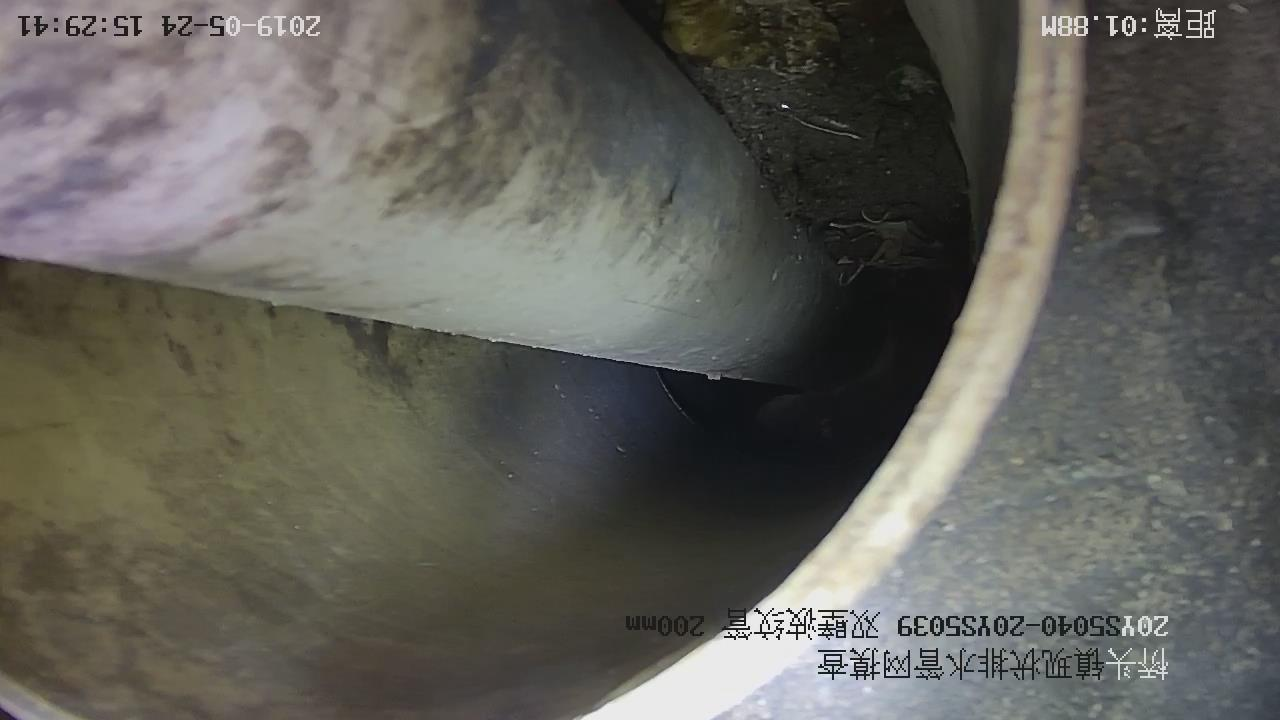YWCR: (1, 1, 836, 382)
